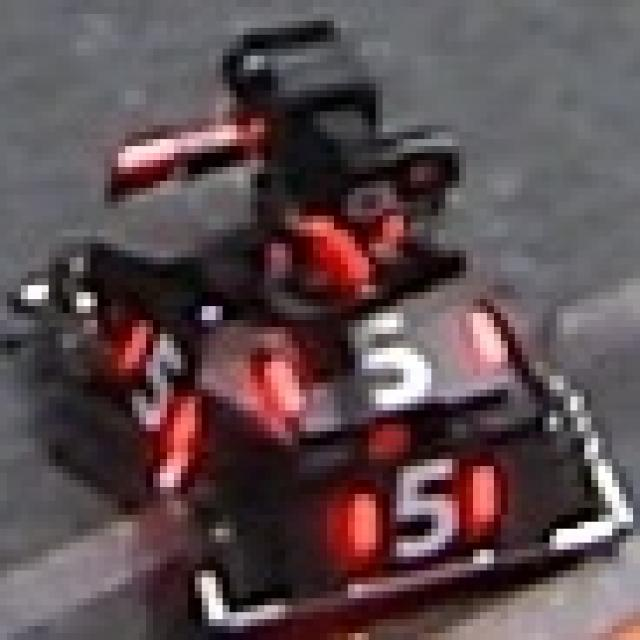R5: (348, 452, 494, 557), (111, 313, 195, 445)
